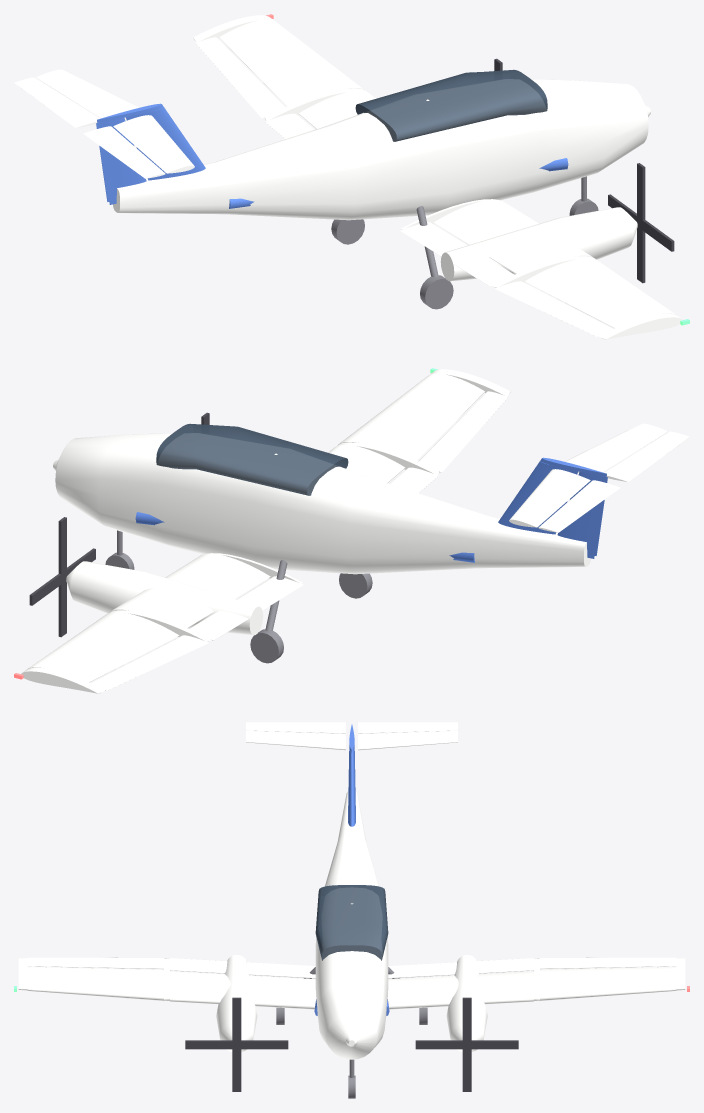
The model's file is kingair.glb.
The picture shows the model from 3 angles, top to bottom: view 1: azimuth 30°, elevation 25°; view 2: azimuth 150°, elevation 25°; view 3: azimuth 270°, elevation 25°; orthographic projection. The views are drawn at different scales.
Visible parts, largest first — view 1: body, gear, aileronL, flapR, aileronR, prop2, elevatorR, elevatorL, rudder, flapL; view 2: body, gear, aileronR, flapL, aileronL, prop1, elevatorL, elevatorR, rudder, flapR; view 3: body, prop1, prop2, flapR, flapL, aileronL, aileronR, elevatorL, elevatorR, gear.
Boxes of the visible parts, bbox=[...] form: body: bbox=[35, 14, 689, 339]; gear: bbox=[331, 176, 598, 309]; aileronL: bbox=[195, 37, 285, 118]; flapR: bbox=[400, 222, 514, 286]; aileronR: bbox=[495, 281, 612, 336]; prop2: bbox=[608, 163, 674, 283]; elevatorR: bbox=[83, 126, 165, 178]; elevatorL: bbox=[14, 77, 99, 127]; rudder: bbox=[96, 118, 146, 201]; flapL: bbox=[265, 113, 314, 139]; body: bbox=[14, 368, 668, 693]; gear: bbox=[105, 530, 372, 663]; aileronR: bbox=[418, 391, 508, 472]; flapL: bbox=[189, 576, 303, 640]; aileronL: bbox=[91, 635, 208, 690]; prop1: bbox=[29, 517, 95, 637]; elevatorL: bbox=[538, 480, 620, 532]; elevatorR: bbox=[604, 431, 689, 481]; rudder: bbox=[557, 472, 607, 555]; flapR: bbox=[389, 467, 438, 493]; body: bbox=[14, 724, 689, 1059]; prop1: bbox=[415, 997, 518, 1091]; prop2: bbox=[185, 997, 288, 1091]; flapR: bbox=[170, 958, 315, 978]; flapL: bbox=[388, 958, 533, 978]; aileronL: bbox=[540, 957, 676, 969]; aileronR: bbox=[27, 957, 163, 969]; elevatorL: bbox=[358, 722, 457, 733]; elevatorR: bbox=[246, 722, 345, 733]; gear: bbox=[276, 967, 427, 1098].
Size of the model in its own units: 8.77 by 3.34 by 11.15.
